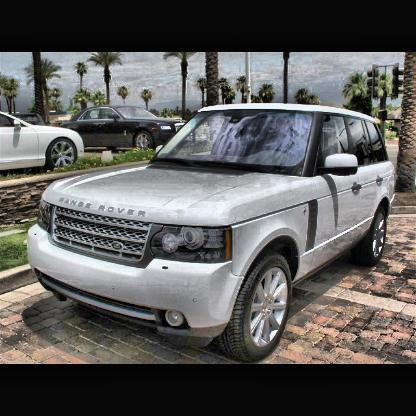Land Rover Range Rover SUV 2012: (28, 104, 399, 364)
